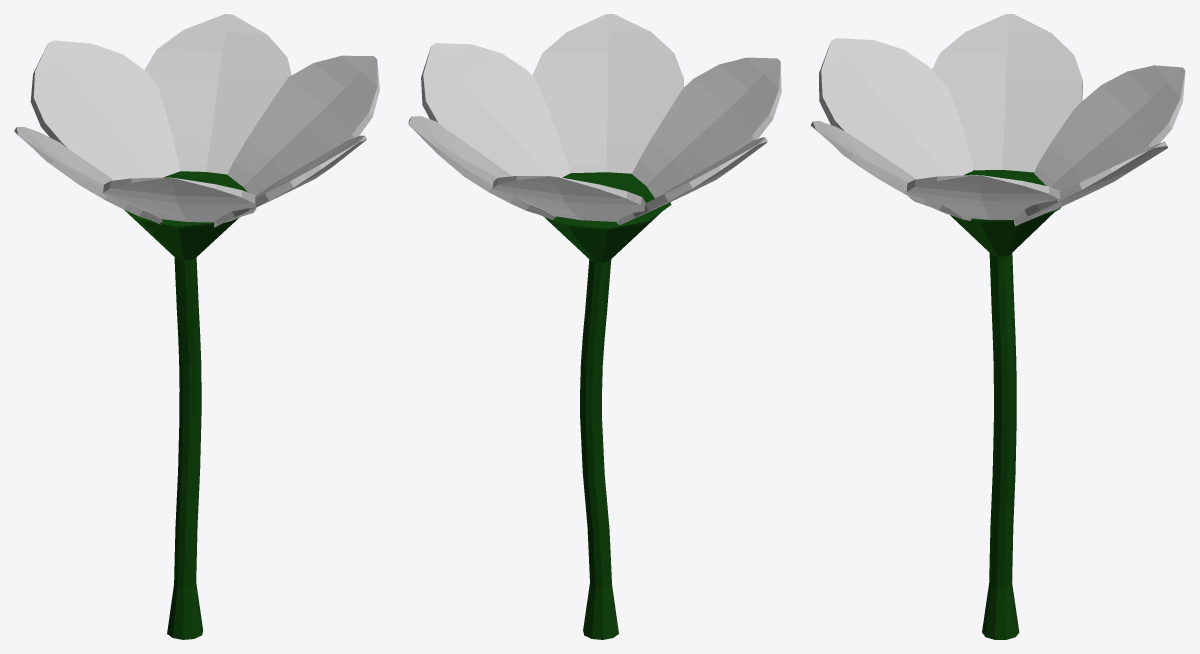
File: Flor 2.obj
The picture shows the model from 3 angles, left to right: view 1: azimuth 30°, elevation 25°; view 2: azimuth 150°, elevation 25°; view 3: azimuth 270°, elevation 25°; orthographic projection.
Visible parts, largest first — view 1: Cube.008_Cube.018; view 2: Cube.008_Cube.018; view 3: Cube.008_Cube.018.
Part boxes in pixels (<box>): Cube.008_Cube.018: <box>14,14,379,639</box>; Cube.008_Cube.018: <box>408,14,781,639</box>; Cube.008_Cube.018: <box>810,14,1185,639</box>.
Bounding box in the file's own units: 3.91 × 5.91 × 3.68.
